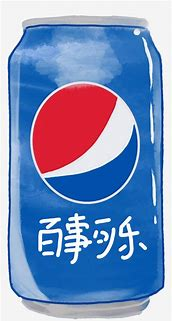Pepsi: (6, 16, 166, 316)
